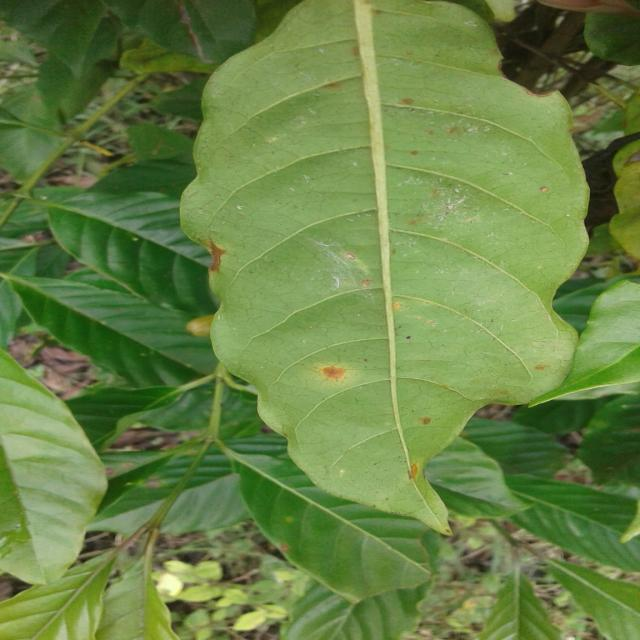Enfermedad-Roya: (177, 0, 591, 534)
